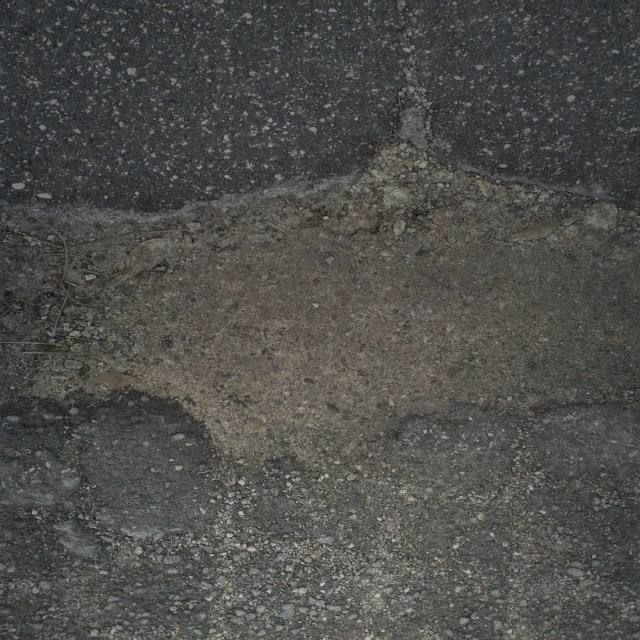pothole: (21, 136, 589, 490)
